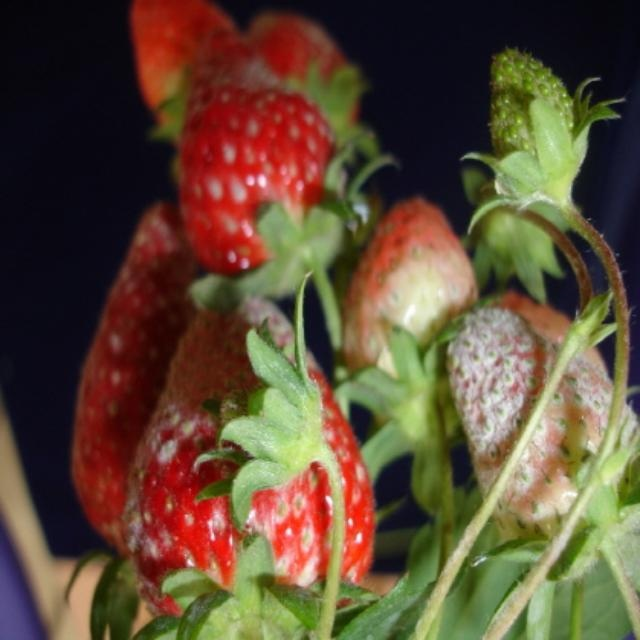Powdery Mildew Fruit: (116, 292, 373, 640), (444, 306, 638, 575), (69, 204, 215, 552), (174, 32, 350, 294)
